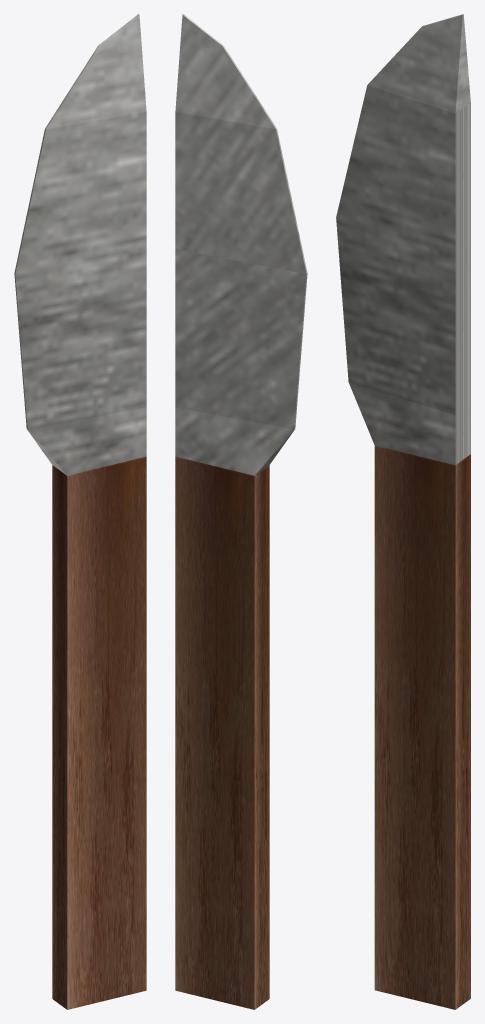
Rendered from knife small.FBX.
3 views of the same model, side by side, from view 1: azimuth 30°, elevation 25°; view 2: azimuth 150°, elevation 25°; view 3: azimuth 330°, elevation 25° (orthographic).
Visible parts, largest first — view 1: Object001, Box001; view 2: Object001, Box001; view 3: Object001, Box001.
Boxes of the visible parts, x1=… form: Object001: x1=52, y1=456, x2=146, y2=1009; Box001: x1=14, y1=14, x2=146, y2=475; Object001: x1=175, y1=456, x2=269, y2=1009; Box001: x1=175, y1=14, x2=307, y2=475; Object001: x1=374, y1=445, x2=470, y2=1009; Box001: x1=336, y1=14, x2=470, y2=465.
Size of the model in its own units: 12.45 by 93.07 by 2.62.
Materials: 2 (2 with a texture image).
